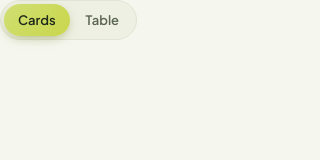
Test: Segmented › changes on click
Click the radio button labelled "Table" at (102, 20), box [72, 4, 133, 36]
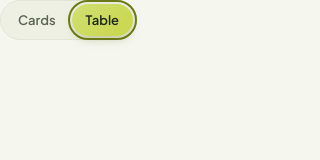
Expected: the radio button labelled "Table" is checked, [72, 4, 133, 36]
